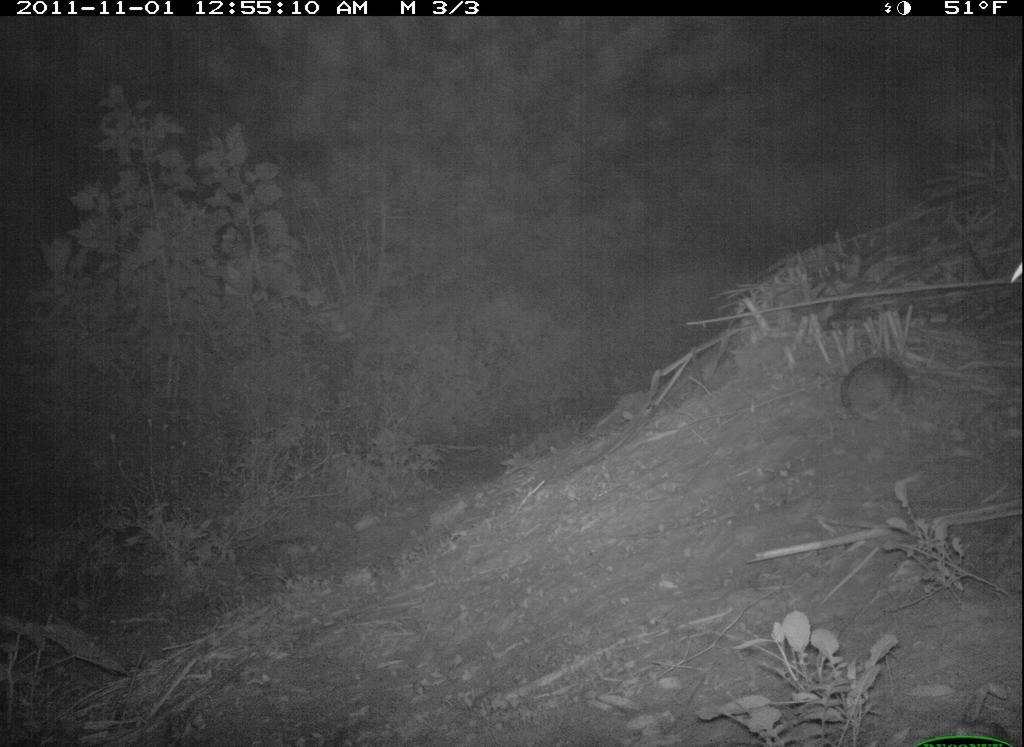rabbit: (839, 347, 916, 429)
